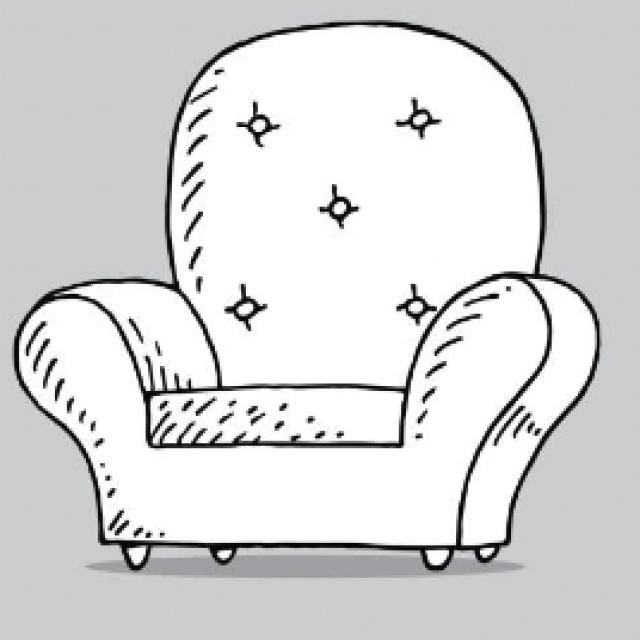Armrest: (400, 270, 604, 547), (12, 274, 222, 542)
Backrest: (167, 16, 548, 396)
Leg_Structure: (116, 540, 512, 577)
Seat: (147, 387, 405, 449)
